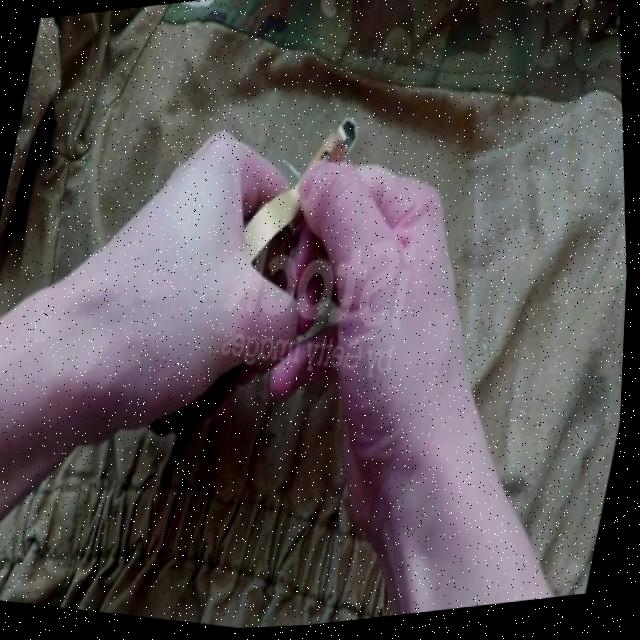grenade: (122, 84, 382, 468)
